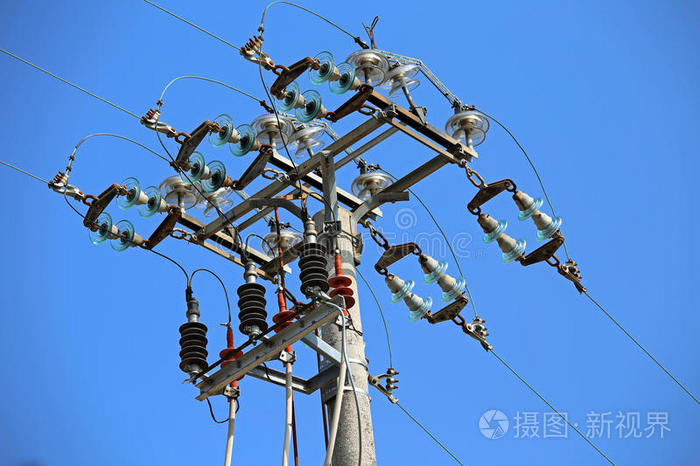insulator: (483, 217, 529, 264), (419, 257, 469, 300), (212, 116, 257, 160), (115, 178, 164, 218), (519, 197, 564, 240), (93, 215, 138, 257), (308, 52, 356, 91), (279, 80, 323, 122), (389, 275, 431, 319), (185, 152, 229, 186)
